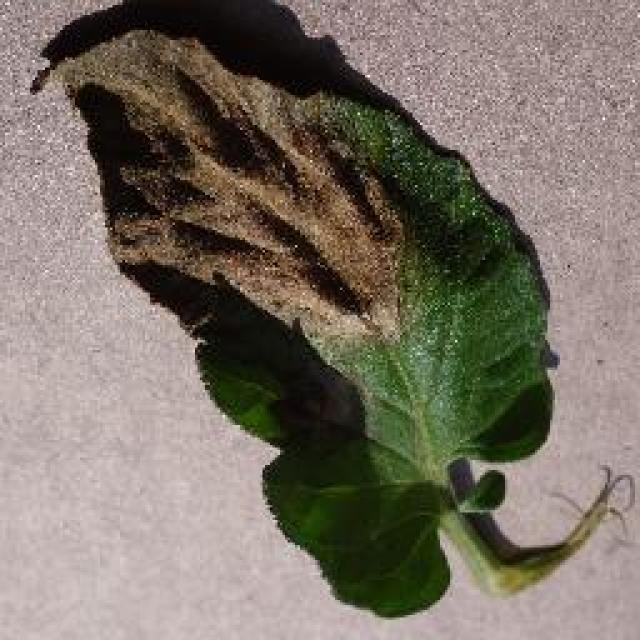Tomato_Late_Blight: (67, 51, 429, 347)
